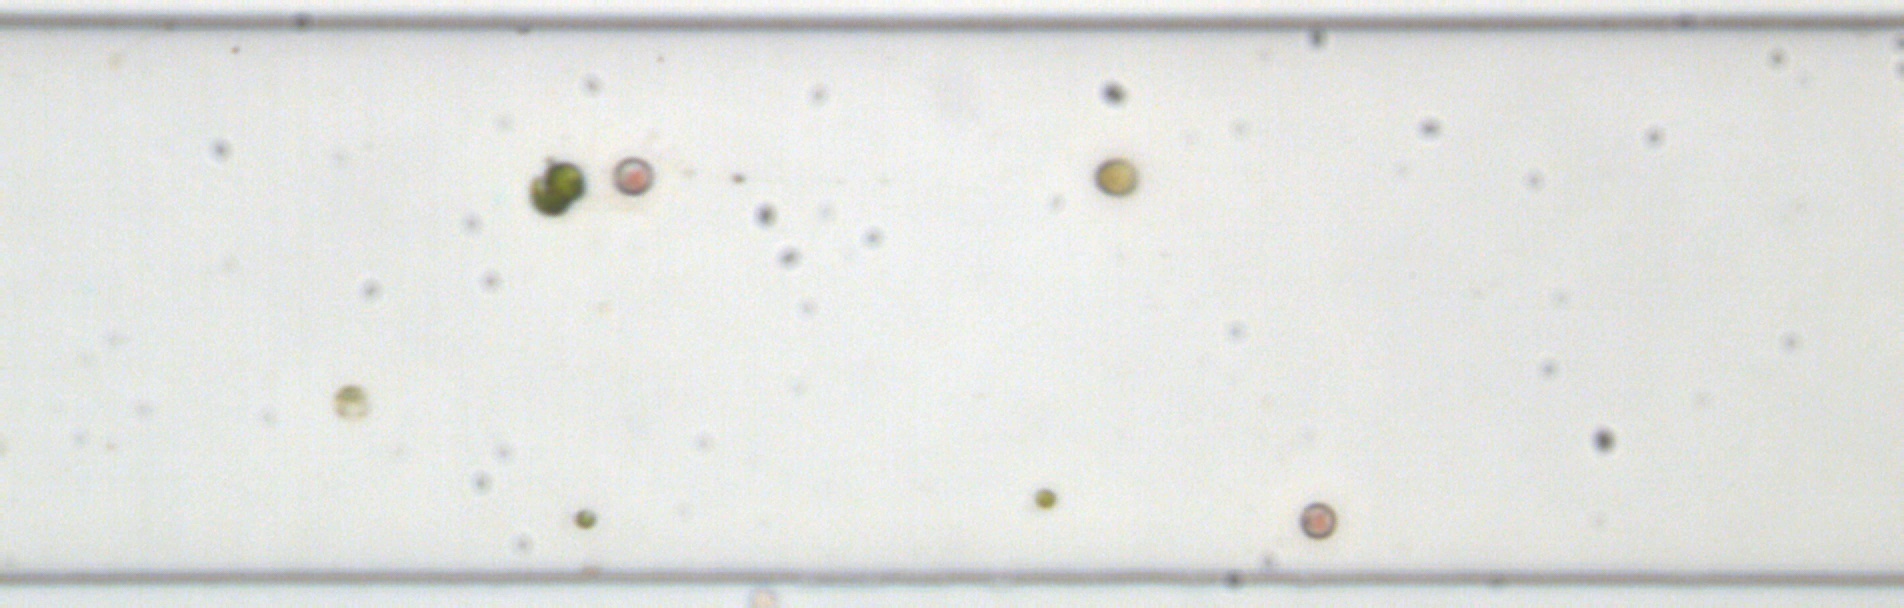Chlorella: (572, 506, 597, 530), (1032, 487, 1055, 508)
Dunaliella salina: (331, 383, 369, 417)
Effrenium: (1089, 154, 1141, 199)
Platymonas: (527, 172, 567, 218), (543, 159, 584, 203)
Porphyridium: (1296, 499, 1338, 541)
